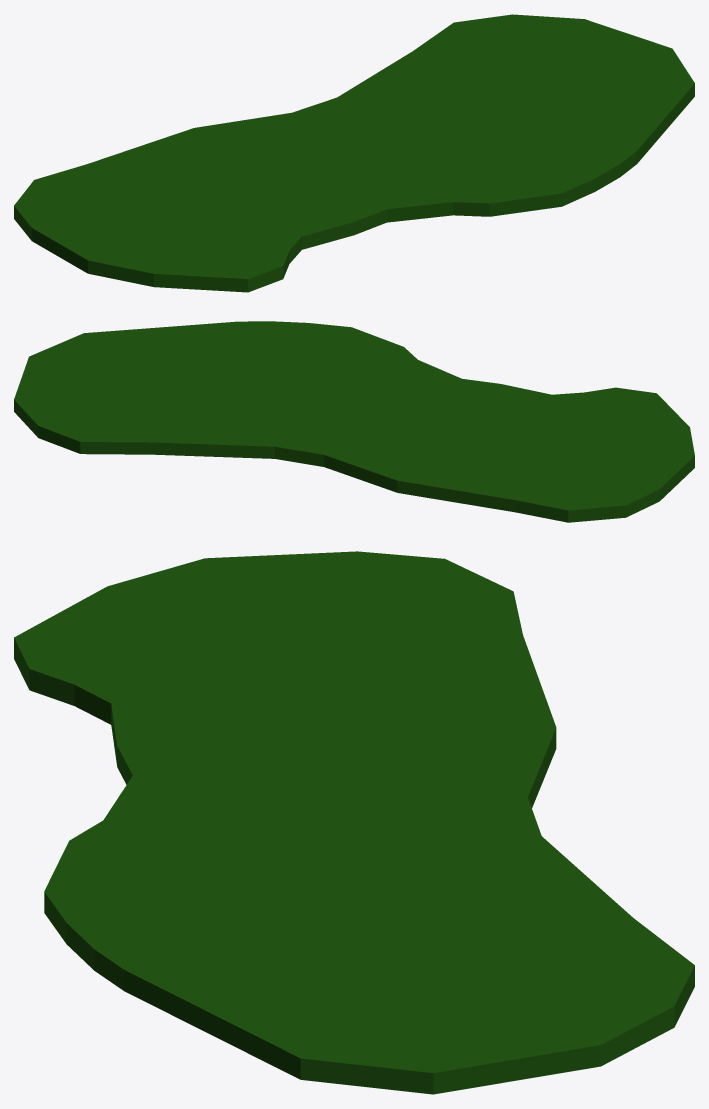
File: Sand 10.FBX
3 views of the same model, one above another, from view 1: azimuth 30°, elevation 25°; view 2: azimuth 150°, elevation 25°; view 3: azimuth 270°, elevation 25° (orthographic). The views are drawn at different scales.
Visible parts, largest first — view 1: Plane001; view 2: Plane001; view 3: Plane001.
Part boxes in pixels (x1,y1,x2,y2): Plane001: (14,14,694,292); Plane001: (14,321,694,522); Plane001: (14,551,694,1094).
Bounding box in the file's own units: 114 × 2.18 × 62.96.
